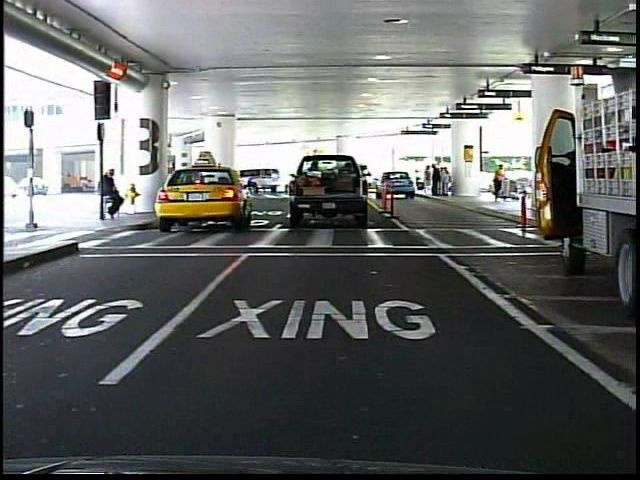person: (101, 163, 128, 224), (490, 159, 510, 207)
